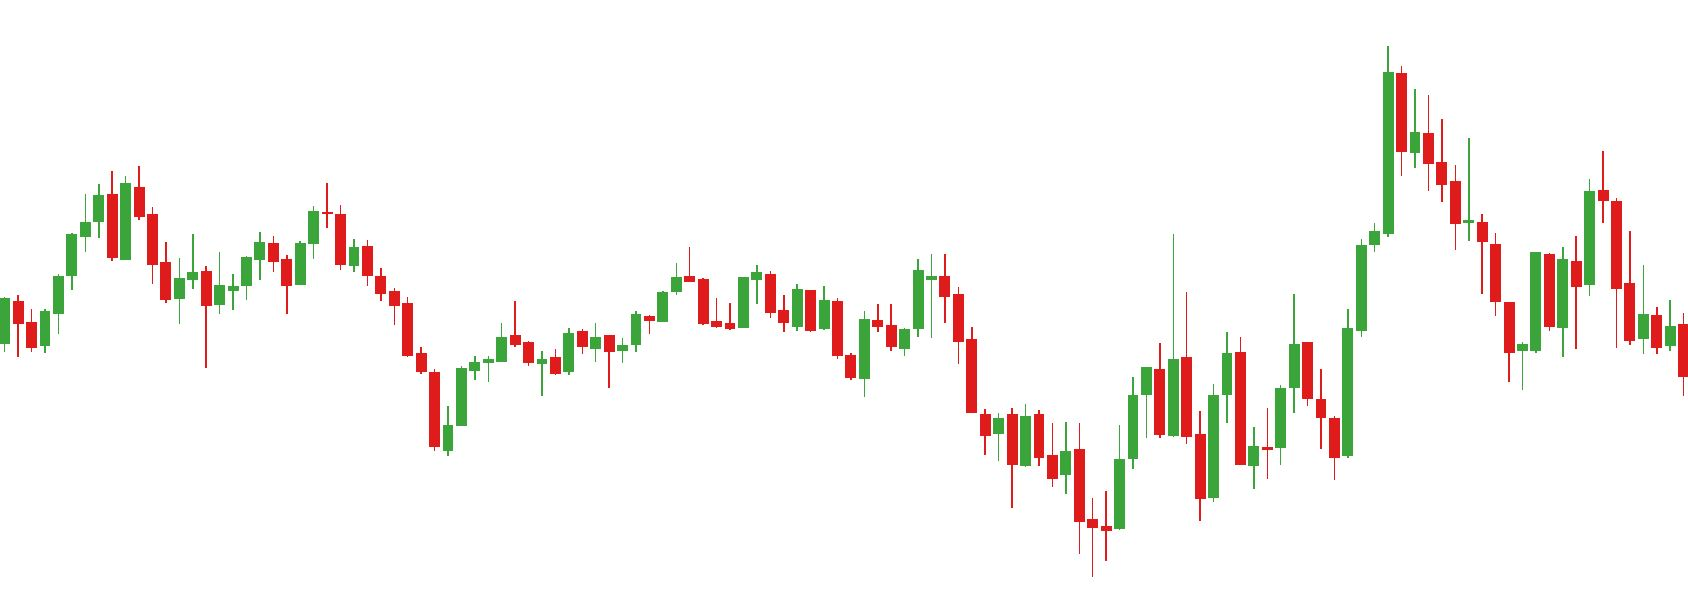buy: (1004, 415, 1130, 573)
sell: (186, 174, 349, 299), (818, 246, 951, 343)
